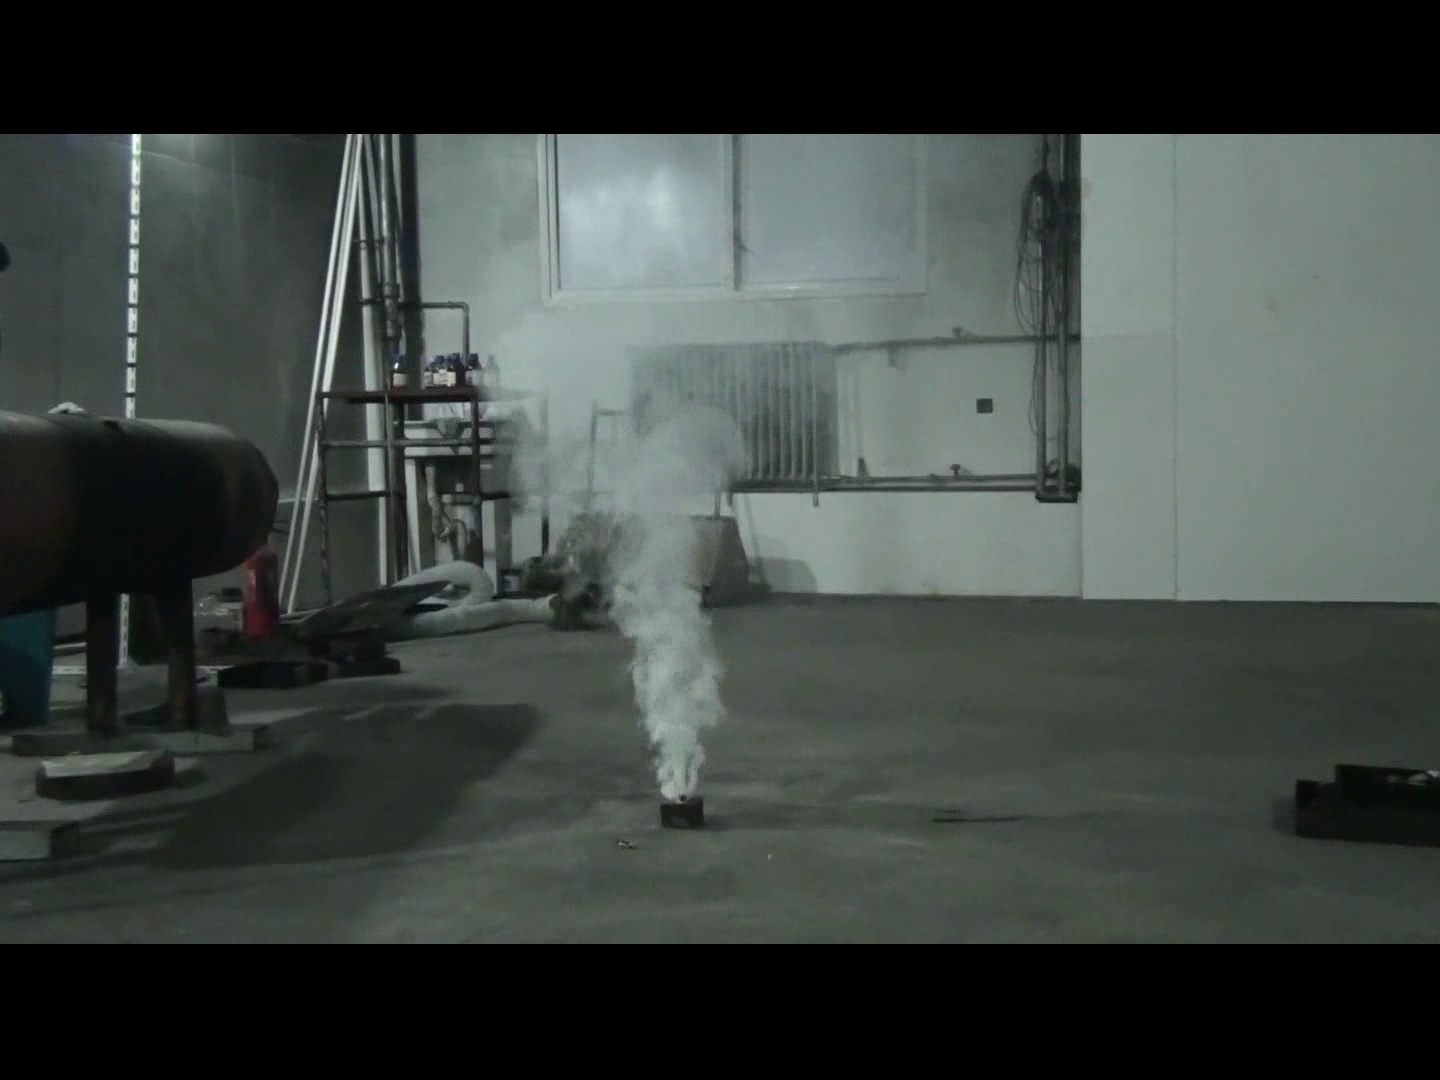smoke: (525, 326, 808, 793)
